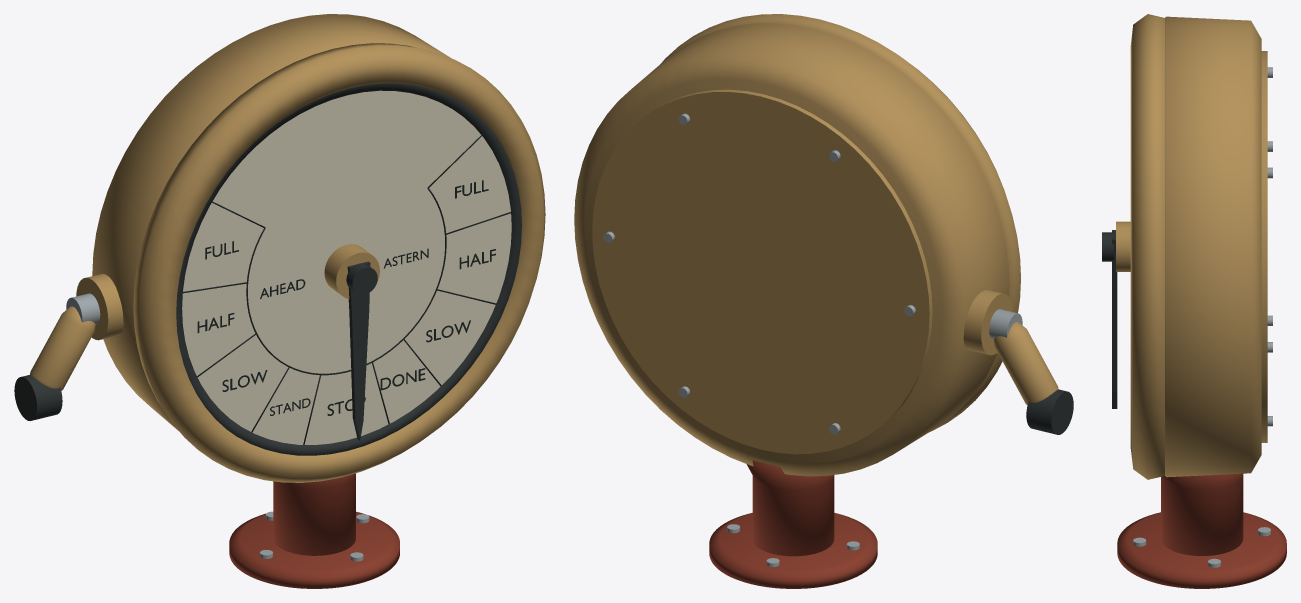
3 renders of one model, left to right at view 1: azimuth 30°, elevation 25°; view 2: azimuth 150°, elevation 25°; view 3: azimuth 270°, elevation 25°, orthographic.
Visible parts, largest first — view 1: Solid pale command dial, Front raised brass bezel, Closed brass drum, Recessed dark dial retaining ring, Grounded circular mounting flange, Short mounting neck, Short inferred side linkage, Original downward command pointer, Left side pivot boss, Side linkage end cap, Pointer support boss, Inner order arc (+2 smaller); view 2: Generic rear circular cover, Closed brass drum, Grounded circular mounting flange, Short mounting neck, Front raised brass bezel, Short inferred side linkage, Left side pivot boss, Side linkage end cap, Left side shaft; view 3: Closed brass drum, Front raised brass bezel, Grounded circular mounting flange, Short mounting neck, Generic rear circular cover, Original downward command pointer, Pointer support boss, Pointer central cap.
Boxes of the visible parts, x1=… form: Solid pale command dial: x1=182, y1=90, x2=511, y2=444; Front raised brass bezel: x1=133, y1=43, x2=545, y2=482; Closed brass drum: x1=92, y1=14, x2=451, y2=430; Recessed dark dial retaining ring: x1=176, y1=83, x2=521, y2=455; Grounded circular mounting flange: x1=229, y1=511, x2=399, y2=588; Short mounting neck: x1=273, y1=473, x2=355, y2=555; Short inferred side linkage: x1=30, y1=306, x2=95, y2=390; Original downward command pointer: x1=347, y1=261, x2=370, y2=440; Left side pivot boss: x1=76, y1=273, x2=123, y2=340; Side linkage end cap: x1=14, y1=375, x2=62, y2=420; Pointer support boss: x1=324, y1=244, x2=379, y2=298; Inner order arc: x1=246, y1=188, x2=446, y2=375; Generic rear circular cover: x1=592, y1=89, x2=932, y2=454; Closed brass drum: x1=574, y1=23, x2=1009, y2=476; Grounded circular mounting flange: x1=709, y1=513, x2=877, y2=588; Short mounting neck: x1=746, y1=460, x2=834, y2=556; Front raised brass bezel: x1=661, y1=14, x2=1020, y2=431; Short inferred side linkage: x1=993, y1=322, x2=1058, y2=405; Left side pivot boss: x1=963, y1=290, x2=1012, y2=355; Side linkage end cap: x1=1026, y1=389, x2=1073, y2=434; Left side shaft: x1=989, y1=309, x2=1022, y2=339; Closed brass drum: x1=1165, y1=16, x2=1261, y2=477; Front raised brass bezel: x1=1130, y1=14, x2=1164, y2=479; Grounded circular mounting flange: x1=1117, y1=512, x2=1286, y2=588; Short mounting neck: x1=1161, y1=473, x2=1243, y2=555; Generic rear circular cover: x1=1261, y1=51, x2=1267, y2=442; Original downward command pointer: x1=1112, y1=230, x2=1117, y2=408; Pointer support boss: x1=1116, y1=221, x2=1130, y2=271; Pointer central cap: x1=1102, y1=232, x2=1113, y2=261.
Size of the model in its own units: 0.419 by 0.431 by 0.1395.
